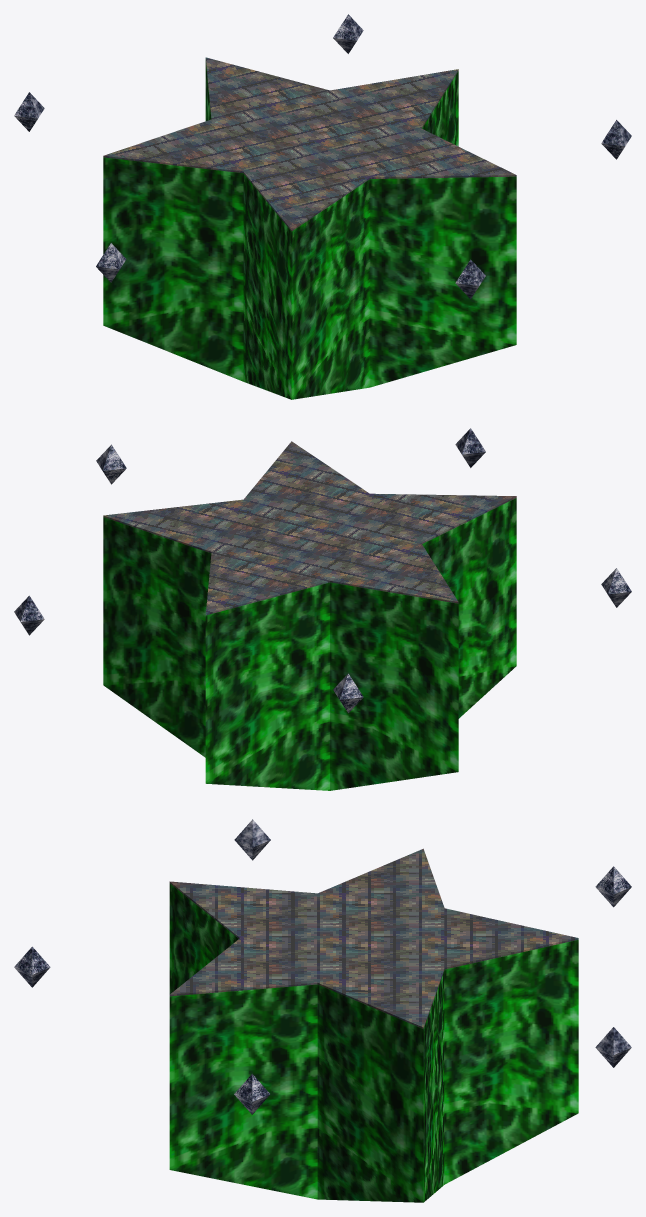
The model's file is koopa3_boss_all.obj.
3 views of the same model, one above another, from view 1: azimuth 30°, elevation 25°; view 2: azimuth 150°, elevation 25°; view 3: azimuth 270°, elevation 25° (orthographic). The views are drawn at different scales.
Visible parts, largest first — view 1: r0; view 2: r0; view 3: r0.
Boxes of the visible parts, <box> form: r0: <box>14,14,631,399</box>; r0: <box>14,428,631,790</box>; r0: <box>14,819,631,1202</box>.
Size of the model in its own units: 6.97 by 2.61 by 6.74.
